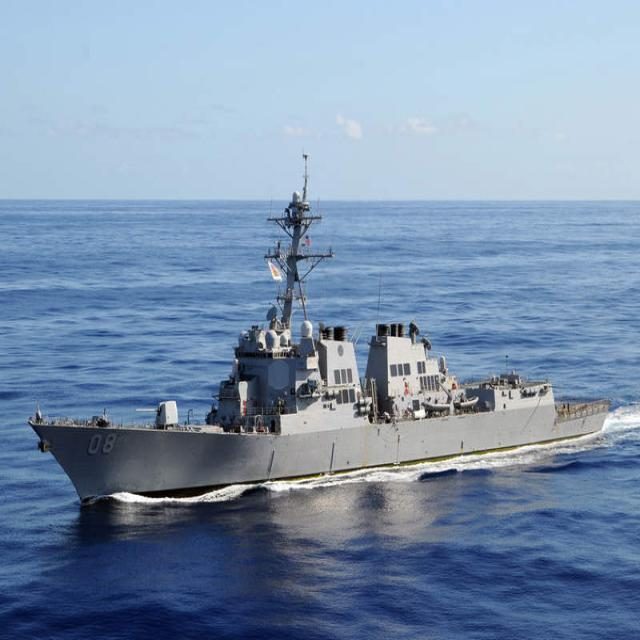navalvessels: (24, 142, 608, 518)
